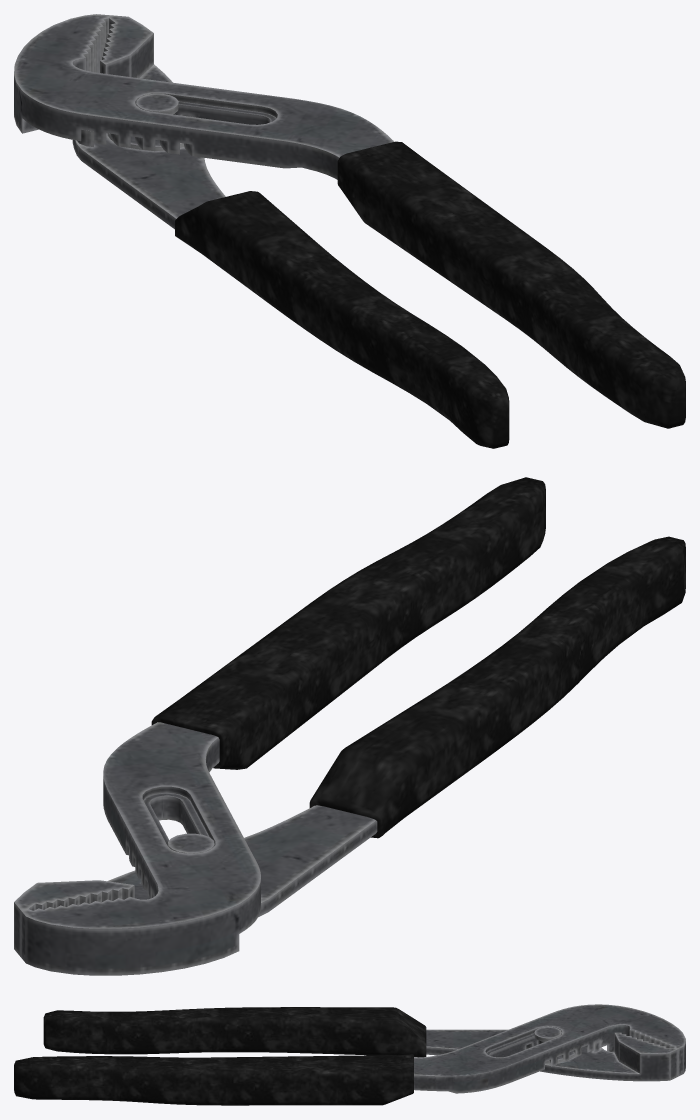
Rendered from pumppliers.glb.
3 views of the same model, one above another, from view 1: azimuth 30°, elevation 25°; view 2: azimuth 150°, elevation 25°; view 3: azimuth 270°, elevation 25° (orthographic). The views are drawn at different scales.
Parts seen in each view (by area): view 1: tongue_groove_pliers_r, tongue_groove_pliers_l; view 2: tongue_groove_pliers_r, tongue_groove_pliers_l; view 3: tongue_groove_pliers_r, tongue_groove_pliers_l.
Boxes of the visible parts, x1,y1,x2,y2 form: tongue_groove_pliers_r: (14,14,685,428); tongue_groove_pliers_l: (72,15,509,448); tongue_groove_pliers_r: (21,477,545,975); tongue_groove_pliers_l: (14,536,685,956); tongue_groove_pliers_r: (14,1004,685,1105); tongue_groove_pliers_l: (43,1007,677,1081).
Size of the model in its own units: 0.0625 by 0.0139 by 0.2444.
Materials: 1 (1 with a texture image).
